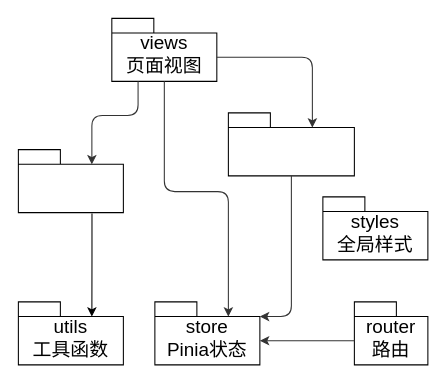
This 446x383 diagram has some shape labels left out. The shapes that lost their labels are listed below. From the top down, each one's centre as x and y in pixels, then its label:
At (290,144): "components 复用组件".
At (70,181): "api 接口封装".
